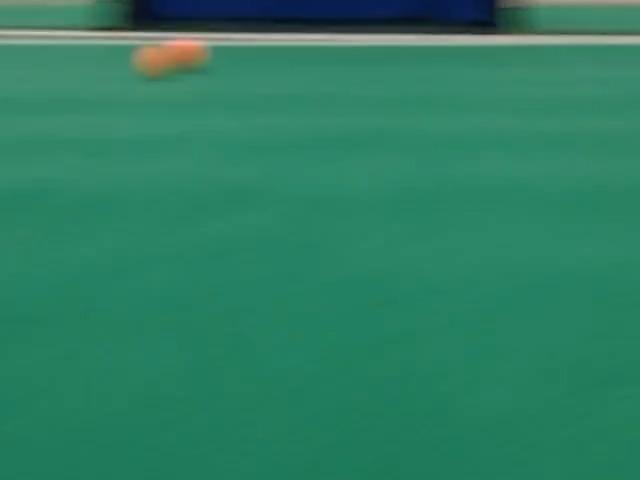Ball: (164, 38, 209, 69), (132, 45, 174, 78)
